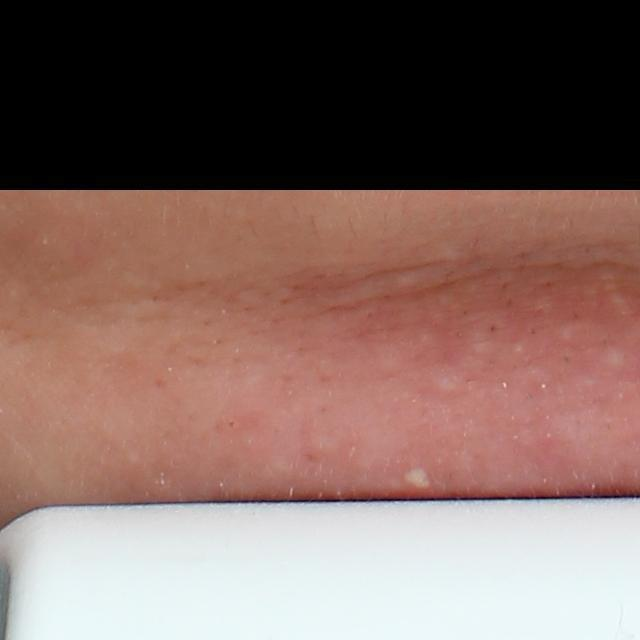pustule: (400, 464, 434, 493)
